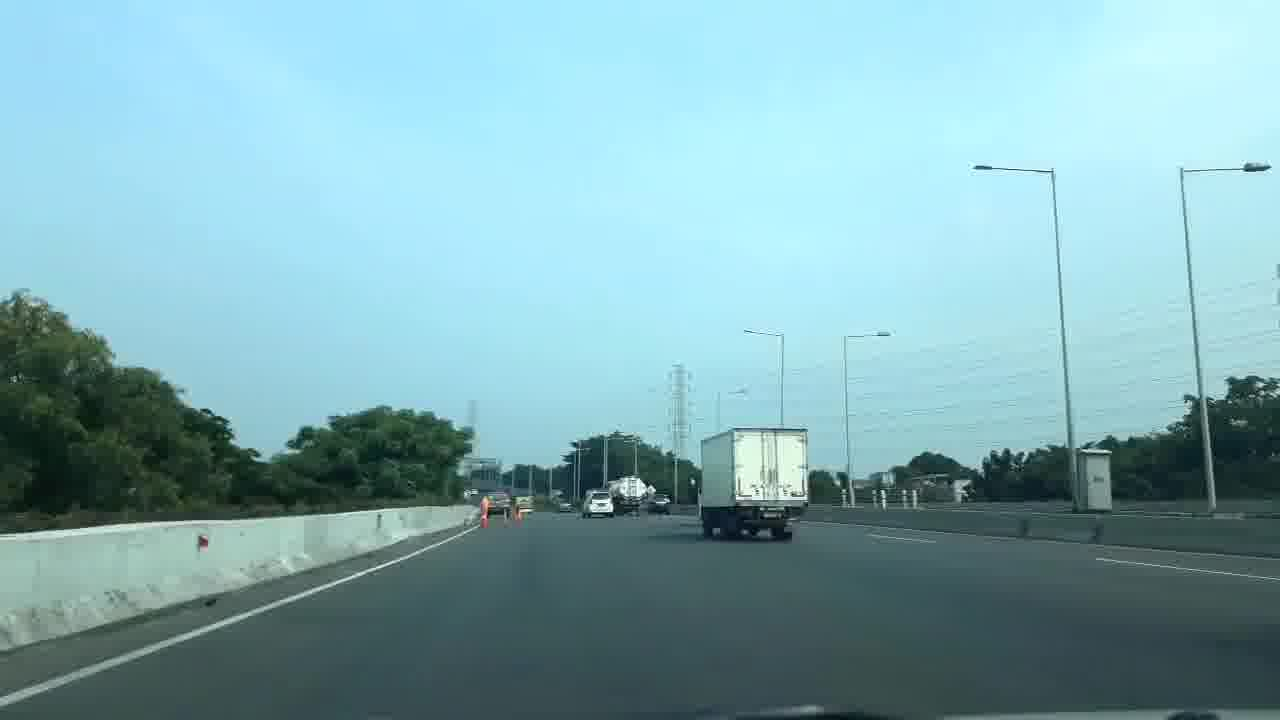plate_positive: (760, 511, 783, 519)
